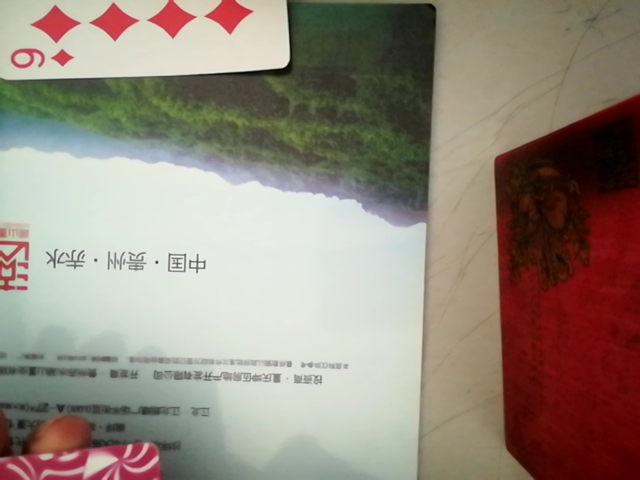fk 9: (0, 2, 301, 84)
